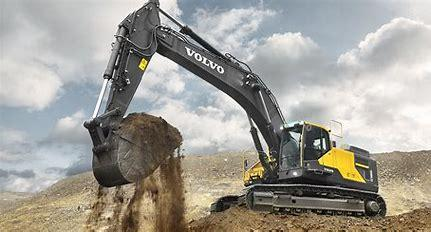C_E: (80, 0, 390, 222)
